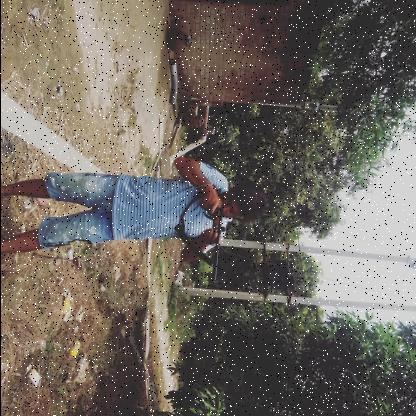rifle: (201, 183, 227, 284)
